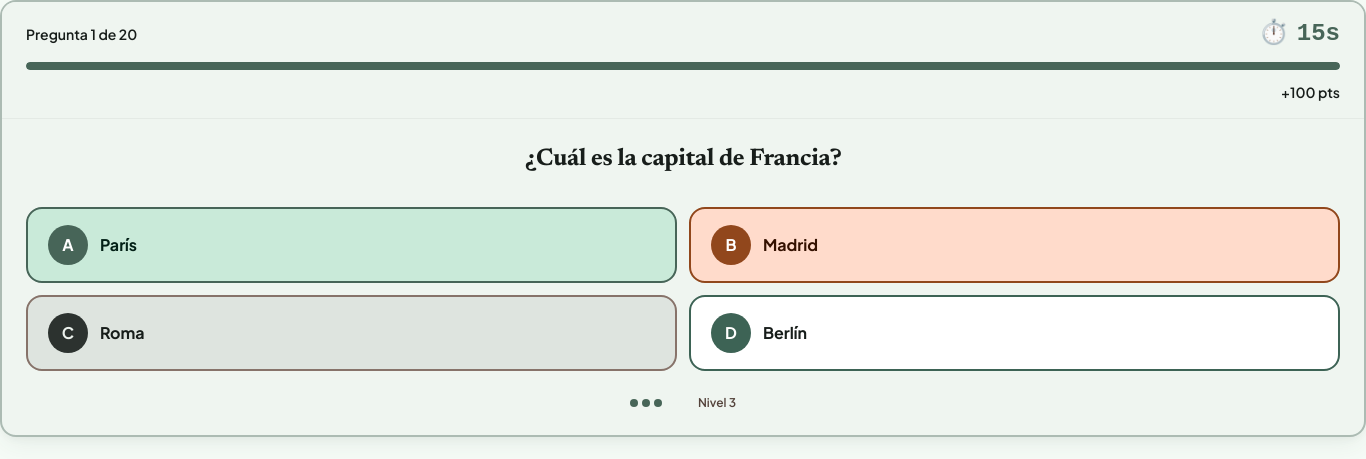
Test: TriviaQuestion — Accesibilidad › Cursor pointer en botones de respuesta › los botones deshabilitados tienen cursor-not-allowed o están marcados como disabled
The image size is (1366, 459).
Click the button "A París" at (68,245), box [26,207,677,283]
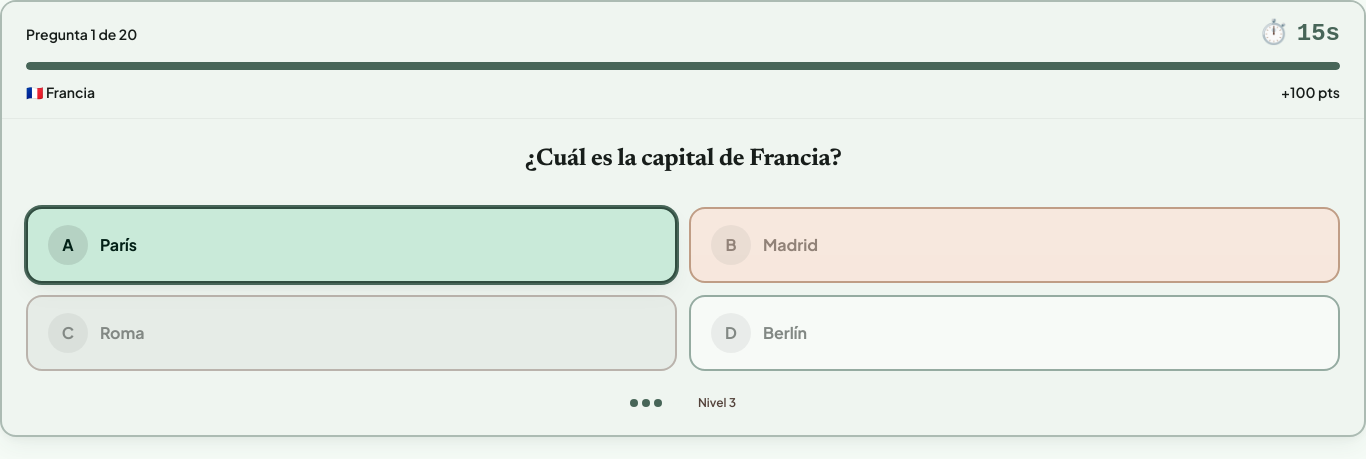
Expected: the button "A París" is disabled, [26,207,677,283]
Expected: the button "B Madrid" is disabled, [689,207,1340,283]
Expected: the button "C Roma" is disabled, [26,295,677,371]
